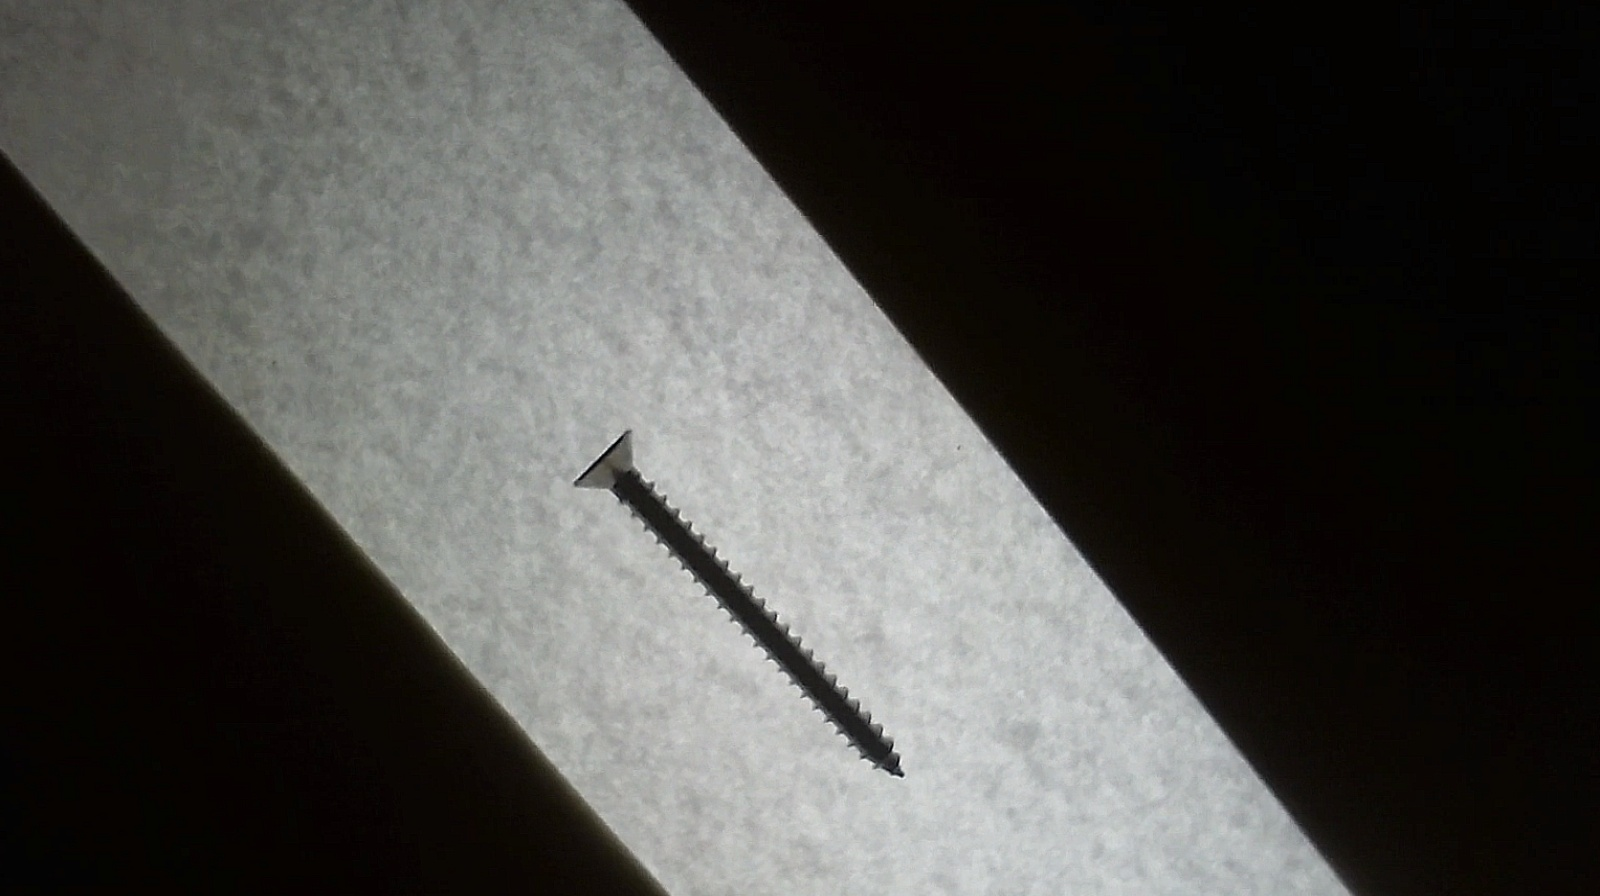S002: (548, 410, 921, 799)
